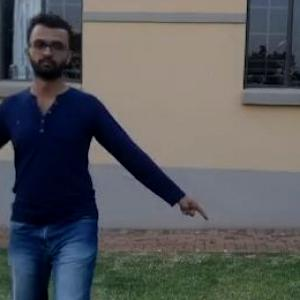land: (1, 38, 203, 299)
